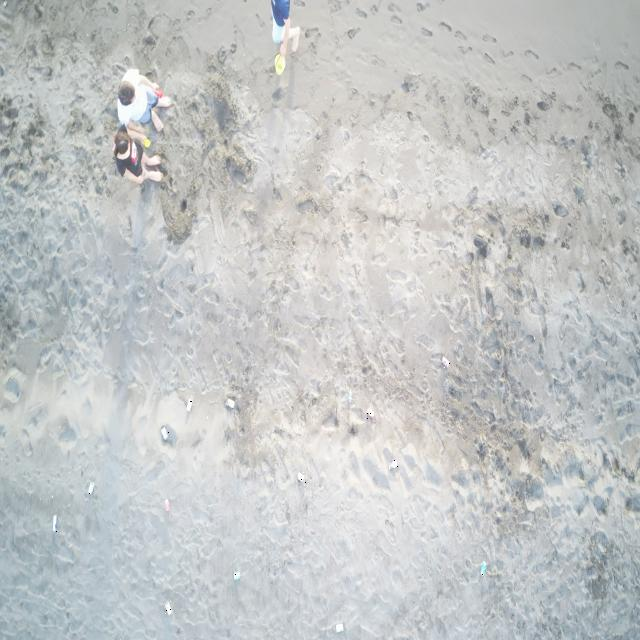tin-and-aluminum-cans: (162, 426, 170, 442), (441, 356, 450, 369), (335, 622, 344, 634), (297, 470, 306, 482), (186, 399, 194, 412), (388, 460, 398, 470), (226, 398, 235, 409), (481, 562, 488, 576), (165, 601, 172, 615), (88, 481, 95, 495), (233, 570, 241, 582), (52, 513, 57, 532), (366, 408, 374, 419), (164, 498, 170, 511), (348, 390, 352, 403)
